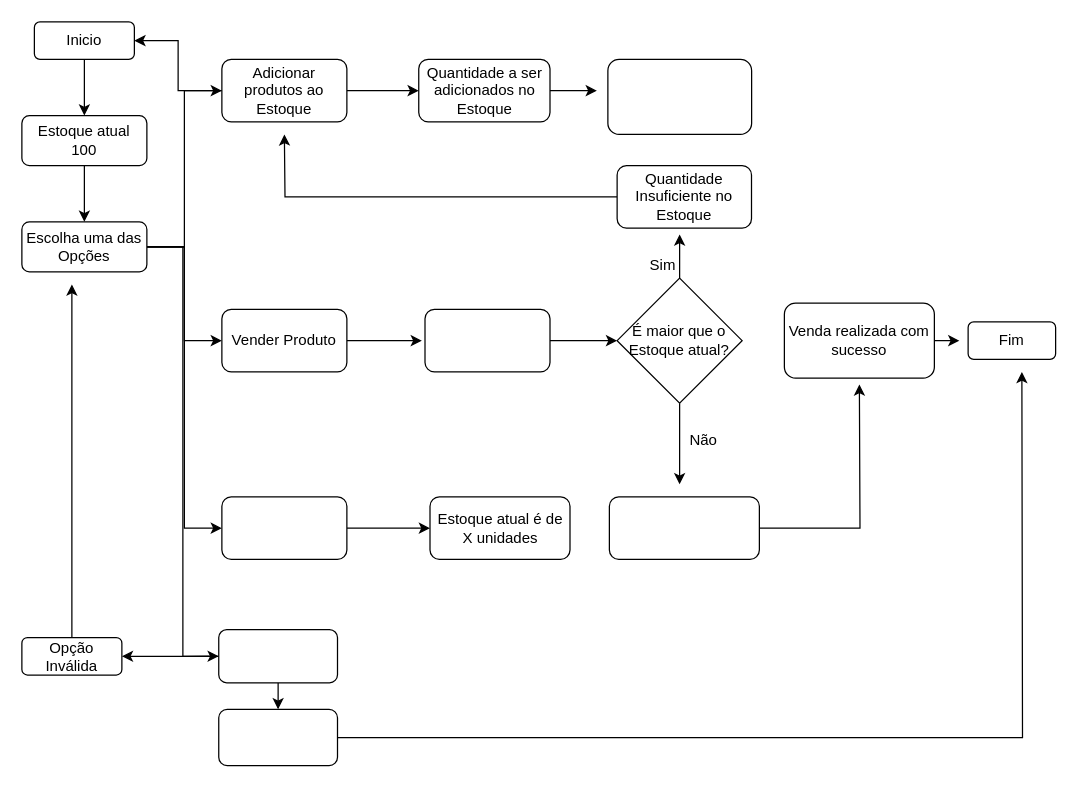
Some shapes in this 1078 by 788 pixel diagram are drawn without their labels. The centre of each missing label's shape, as x and y in pixels:
Encerrar: the point at 278,737
Estoque atual + Entrada do Produto: the point at 679,96
Estoque atual - Saída do Produto: the point at 683,527
Quantidade a ser vendido: the point at 487,340
Sair: the point at 278,655
Verificar Estoque: the point at 284,527
